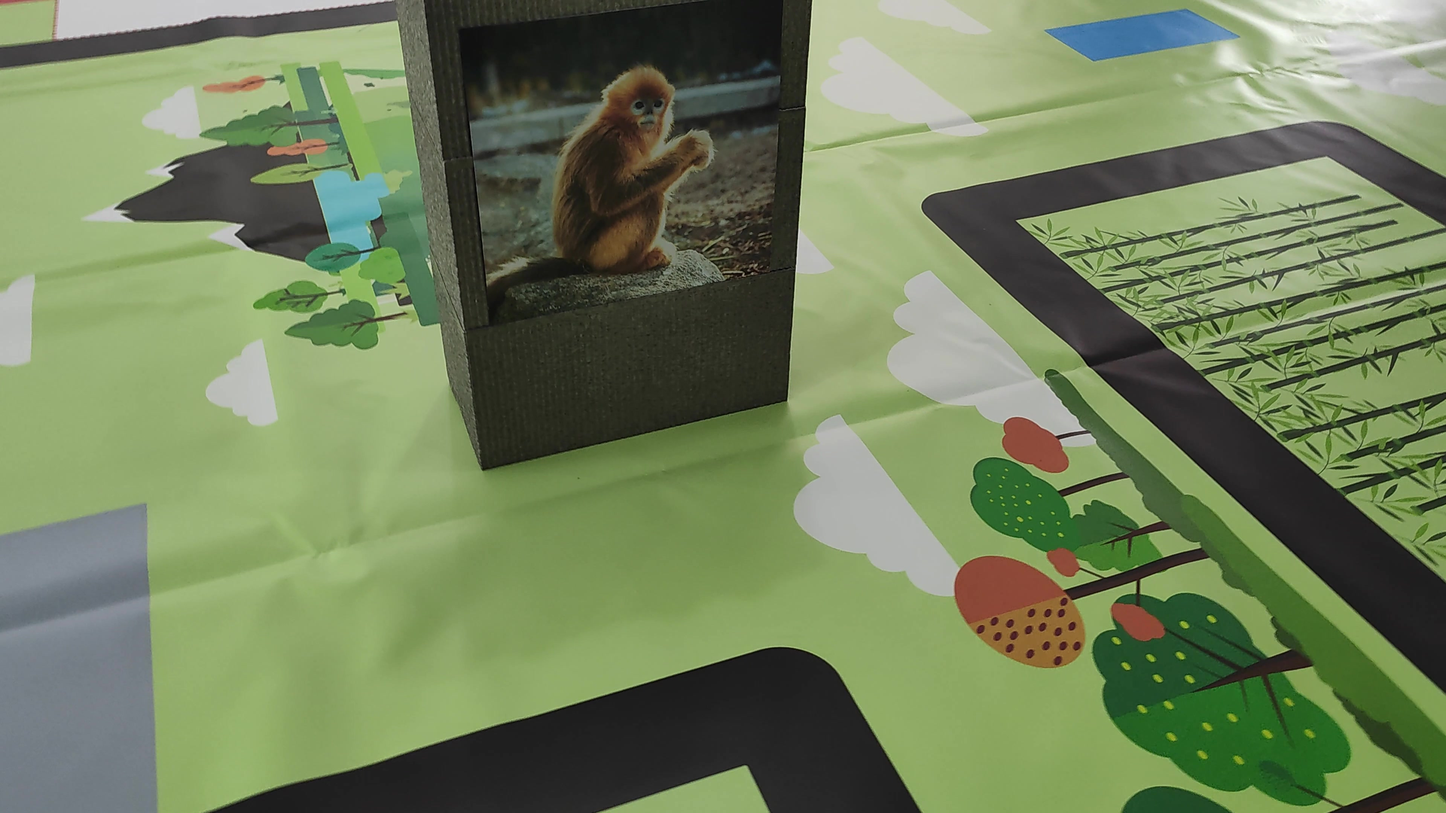monkey: (482, 41, 742, 303)
